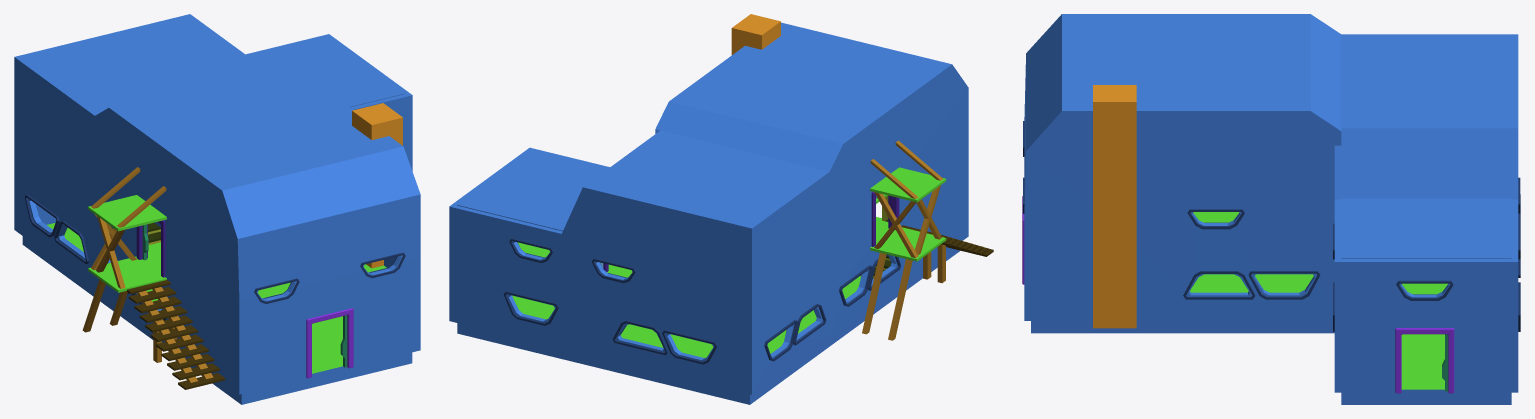
Rendered from House.fbx.
3 views of the same model, side by side, from view 1: azimuth 30°, elevation 25°; view 2: azimuth 150°, elevation 25°; view 3: azimuth 270°, elevation 25° (orthographic). The views are drawn at different scales.
Parts seen in each view (by area): view 1: House, StairsOuter, Chimney, Floor.003, Stairs Support, cross support, Window model.011, cross support.001, Cube.003, Door Frame.002, Window model.004, Window model.005; view 2: House, cross support, Chimney, Floor.003, Cube.003, cross support.001, StairsOuter, Stairs Support, Door Frame.002; view 3: House, Chimney, Window model, Window model.001, Window model.008, Window model.010.
Part boxes in pixels (bbox=[...]): House: bbox=[14, 14, 420, 404]; StairsOuter: bbox=[126, 280, 225, 389]; Chimney: bbox=[352, 103, 402, 268]; Floor.003: bbox=[88, 195, 166, 231]; Stairs Support: bbox=[137, 287, 213, 382]; cross support: bbox=[91, 214, 136, 288]; Window model.011: bbox=[254, 252, 405, 303]; cross support.001: bbox=[91, 167, 166, 227]; Cube.003: bbox=[82, 279, 127, 332]; Door Frame.002: bbox=[136, 220, 165, 277]; Window model.004: bbox=[24, 194, 59, 237]; Window model.005: bbox=[54, 221, 88, 263]; House: bbox=[449, 22, 968, 404]; cross support: bbox=[874, 185, 941, 258]; Chimney: bbox=[731, 14, 780, 54]; Floor.003: bbox=[870, 167, 946, 202]; Cube.003: bbox=[862, 252, 912, 340]; cross support.001: bbox=[870, 140, 943, 198]; StairsOuter: bbox=[901, 225, 993, 256]; Stairs Support: bbox=[923, 244, 945, 283]; Door Frame.002: bbox=[871, 192, 899, 246]; House: bbox=[1022, 14, 1518, 404]; Chimney: bbox=[1093, 85, 1136, 328]; Window model: bbox=[1248, 271, 1320, 299]; Window model.001: bbox=[1183, 271, 1255, 299]; Window model.008: bbox=[1396, 280, 1453, 300]; Window model.010: bbox=[1187, 209, 1244, 229].
Bounding box in the file's own units: 3021 × 1740 × 3248.
